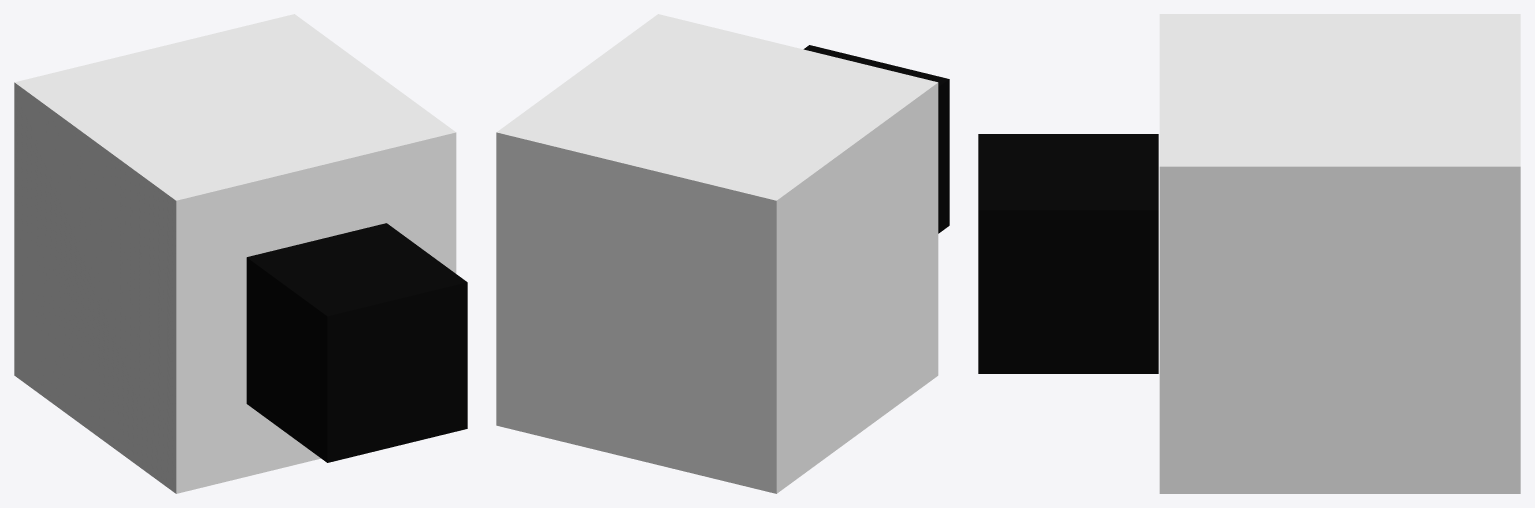
File: player.obj
3 views of the same model, side by side, from view 1: azimuth 30°, elevation 25°; view 2: azimuth 150°, elevation 25°; view 3: azimuth 270°, elevation 25° (orthographic). The views are drawn at different scales.
Parts seen in each view (by area): view 1: 立方体.001; view 2: 立方体.001; view 3: 立方体.001.
Boxes of the visible parts, bbox=[...] form: 立方体.001: bbox=[14, 14, 467, 493]; 立方体.001: bbox=[496, 14, 949, 493]; 立方体.001: bbox=[978, 14, 1520, 493].
Size of the model in its own units: 1 by 1 by 1.5.
1 material, 1 textured.
